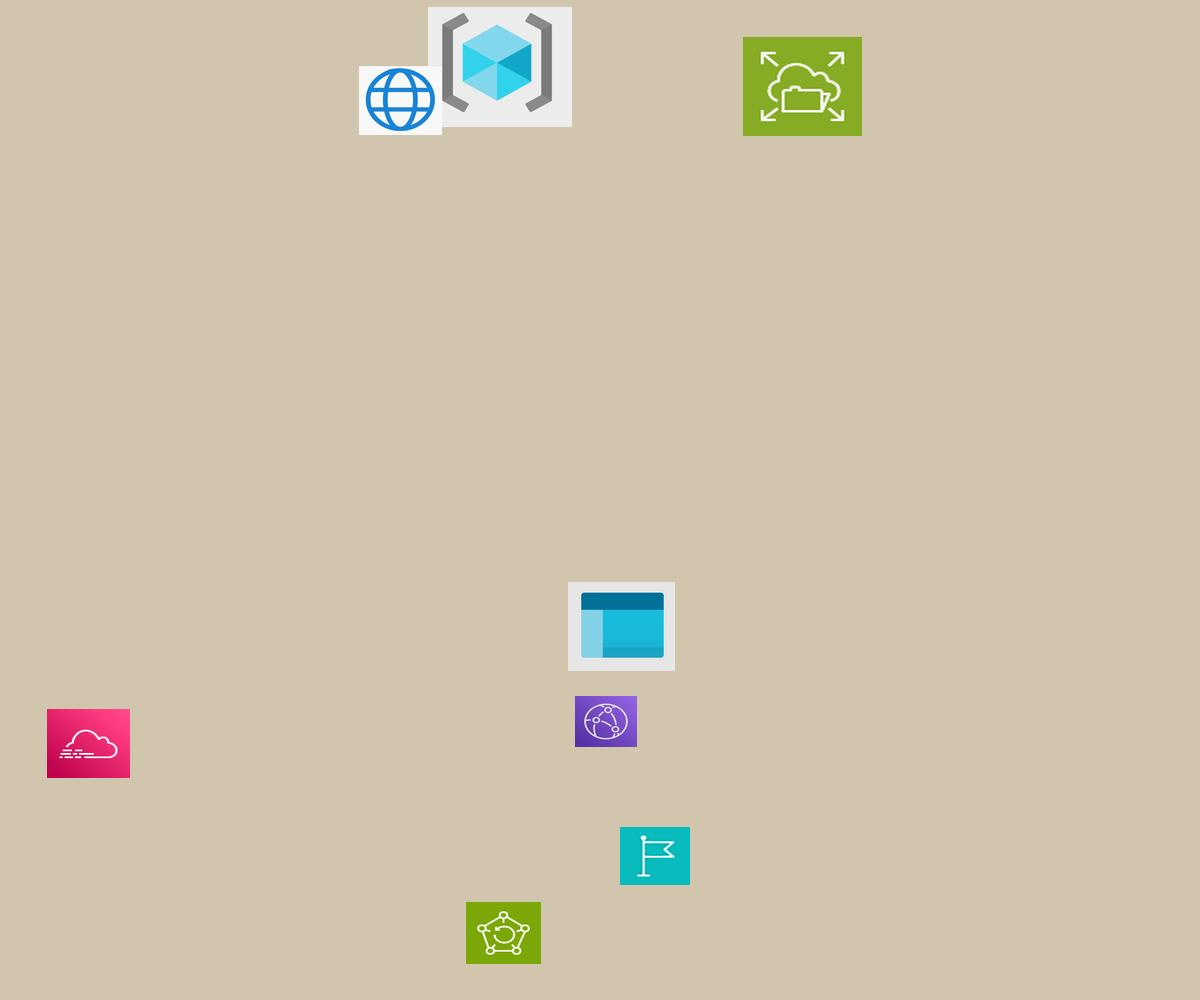AWS-Backup: (466, 902, 541, 964)
AWS-CloudFront: (575, 696, 637, 747)
AWS-CloudTrail: (47, 709, 130, 778)
AWS-EFS: (743, 37, 862, 136)
AWS-Region: (620, 827, 690, 885)
Azure_http: (359, 66, 442, 135)
Azure_management-portal: (568, 582, 675, 671)
Azure_resource_group: (428, 7, 572, 127)
